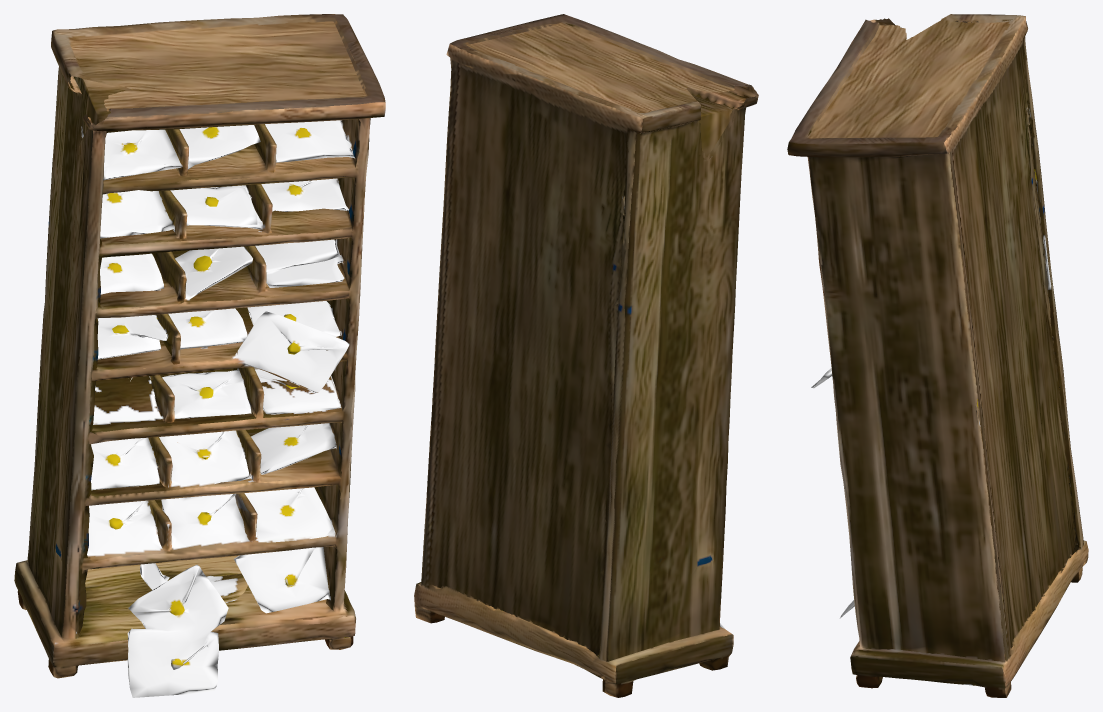
Rendered from hl_shelf.glb.
3 views of the same model, side by side, from view 1: azimuth 30°, elevation 25°; view 2: azimuth 150°, elevation 25°; view 3: azimuth 270°, elevation 25° (orthographic). The views are drawn at different scales.
Bounding box in the file's own units: 0.4677 × 0.9018 × 0.4285.
1 material, 1 textured.
